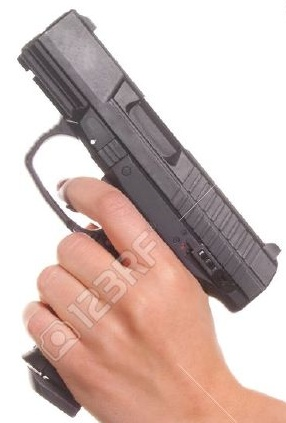pistol: (6, 1, 283, 423)
